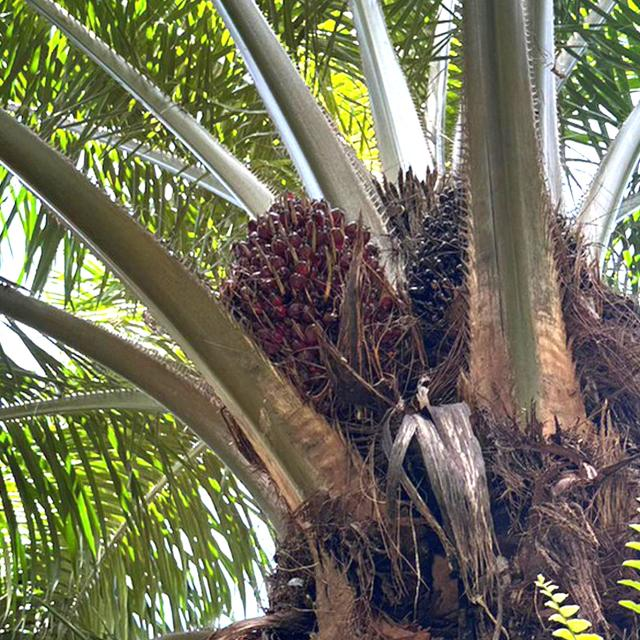almost: (222, 182, 395, 403), (421, 182, 489, 338)
